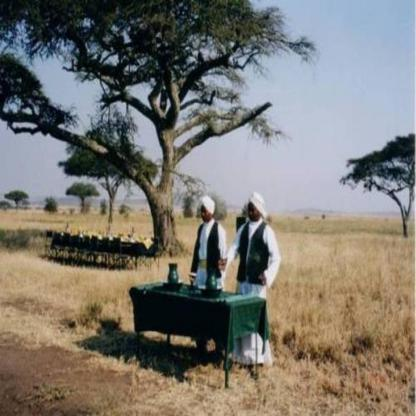face: (249, 203, 258, 221), (202, 206, 209, 222)
